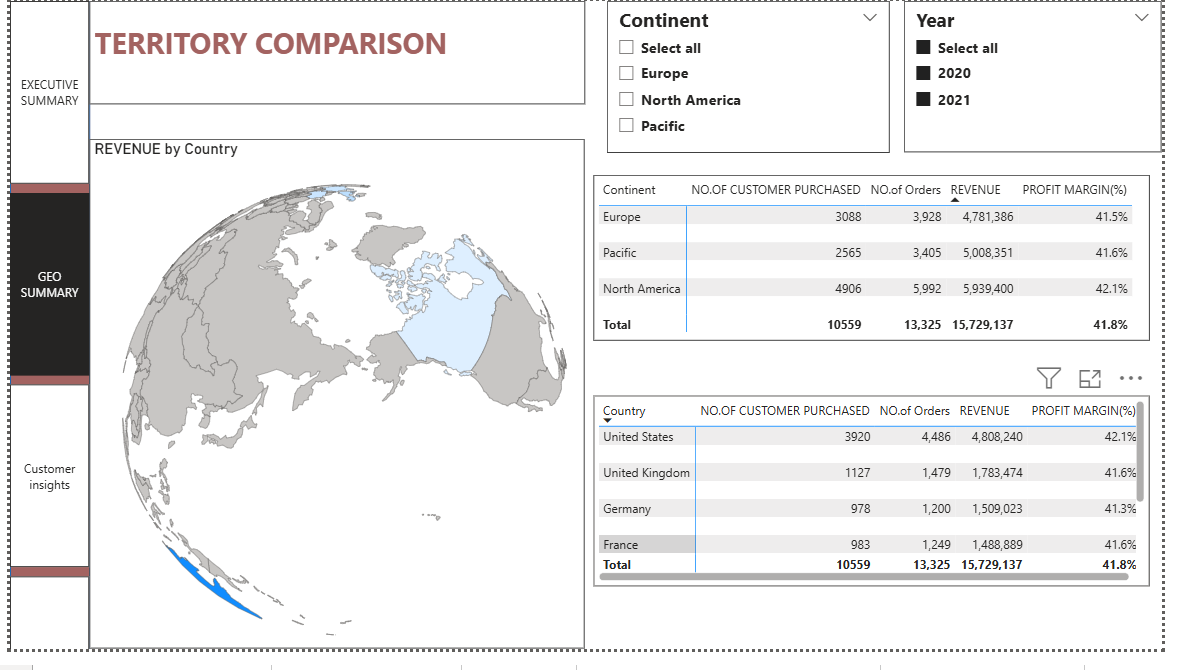

Layout of this report page (visuals, bound fields, positions):
{"tool":"powerbi","page":{"name":"GEO SUMMARY","canvas":[1280,720],"ordinal":4},"visuals":[{"type":"shape","box":[0,0,89.1,720.6],"z":0},{"type":"textbox","box":[89.1,0,550.5,115],"z":1000},{"type":"slicer","fields":{"Values":["DimDate.Year"]},"box":[994,0,286,168],"z":2000},{"type":"shapeMap","fields":{"Category":["DimTerritory.Country"],"Value":["_Measure.REVENUE"]},"box":[88,154,550,566],"z":3000},{"type":"slicer","fields":{"Values":["DimTerritory.Continent"]},"box":[663.9,0,314.1,168.4],"z":4000},{"type":"pivotTable","fields":{"Rows":["DimTerritory.Continent"],"Values":["_Measure.NO.OF CUSTOMER PURCHASED","_Measure.NO.of Orders","_Measure.REVENUE","_Measure.PROFIT MARGIN(%)"]},"box":[648,194,618,184],"z":5000},{"type":"pivotTable","fields":{"Values":["_Measure.NO.OF CUSTOMER PURCHASED","_Measure.NO.of Orders","_Measure.REVENUE","_Measure.PROFIT MARGIN(%)"],"Rows":["DimTerritory.Country"]},"box":[648,438,618,212],"z":6000},{"type":"pageNavigator","box":[0,0,88,842],"z":7000}]}

Visuals, with their boxes in screenshot pixels (x1, y1, x2, y2):
shape: x1=6, y1=0, x2=87, y2=650
textbox: x1=87, y1=0, x2=586, y2=101
slicer - DimDate.Year: x1=908, y1=0, x2=1167, y2=149
shapeMap - DimTerritory.Country x _Measure.REVENUE: x1=86, y1=137, x2=585, y2=650
slicer - DimTerritory.Continent: x1=608, y1=0, x2=893, y2=150
pivotTable - DimTerritory.Continent x _Measure.NO.OF CUSTOMER PURCHASED: x1=594, y1=173, x2=1154, y2=340
pivotTable - _Measure.NO.OF CUSTOMER PURCHASED x _Measure.NO.of Orders: x1=594, y1=394, x2=1154, y2=586
pageNavigator: x1=6, y1=0, x2=86, y2=669
